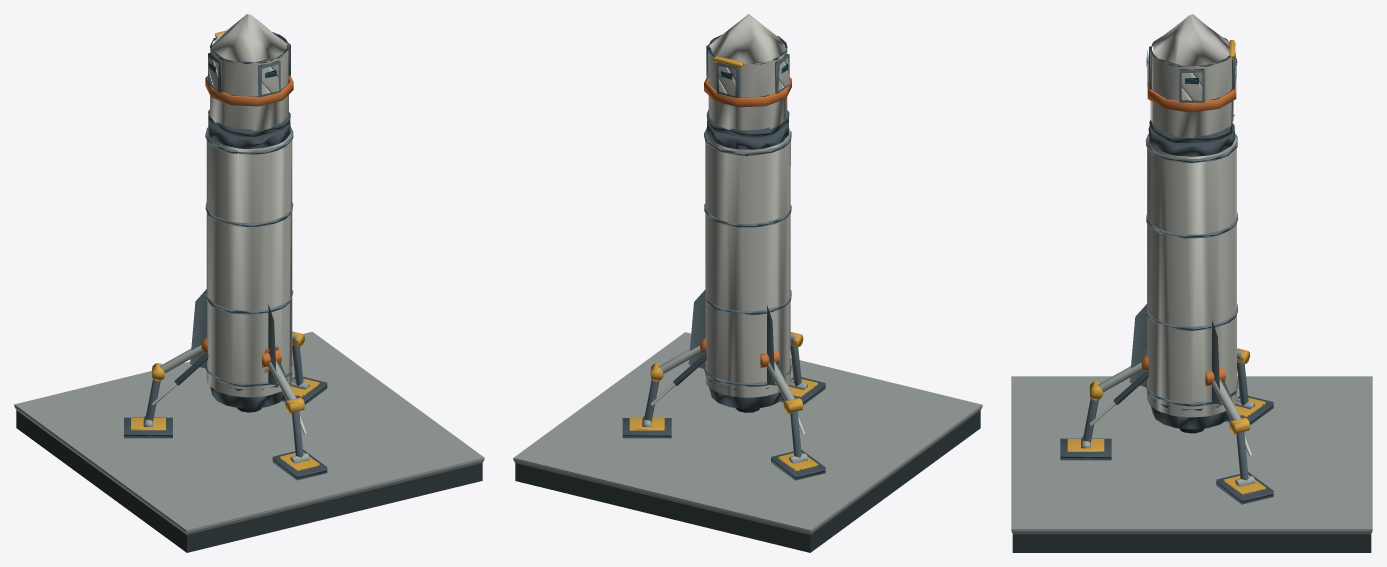
The model's file is sh02_landing_island_d0_lod2.glb.
3 renders of one model, left to right at view 1: azimuth 30°, elevation 25°; view 2: azimuth 150°, elevation 25°; view 3: azimuth 270°, elevation 25°, orthographic. The views are drawn at different scales.
Parts seen in each view (by area): view 1: DISTANCE_GEOMETRY; view 2: DISTANCE_GEOMETRY; view 3: DISTANCE_GEOMETRY.
Boxes of the visible parts, left/top/right/bottom form: DISTANCE_GEOMETRY: left=14, top=14, right=484, bottom=552; DISTANCE_GEOMETRY: left=513, top=14, right=982, bottom=552; DISTANCE_GEOMETRY: left=1011, top=14, right=1372, bottom=552.
Bounding box in the file's own units: 16 × 22.6 × 16.
